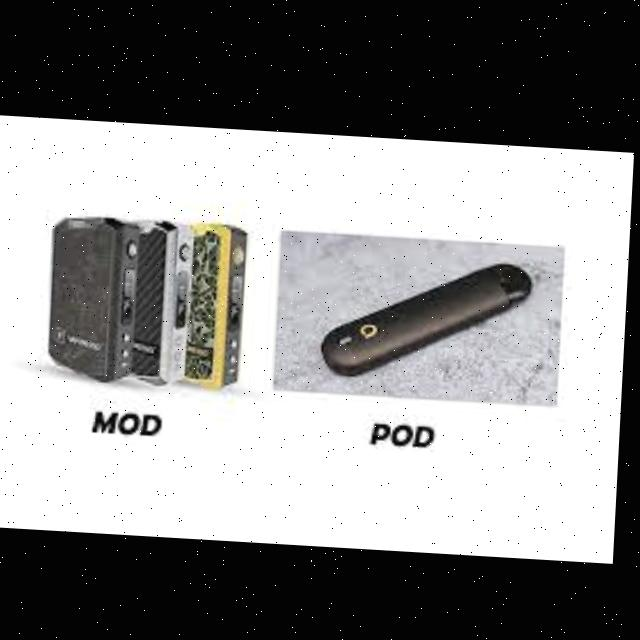vape: (325, 249, 537, 380), (50, 212, 144, 382), (191, 219, 249, 387), (138, 217, 194, 385)
